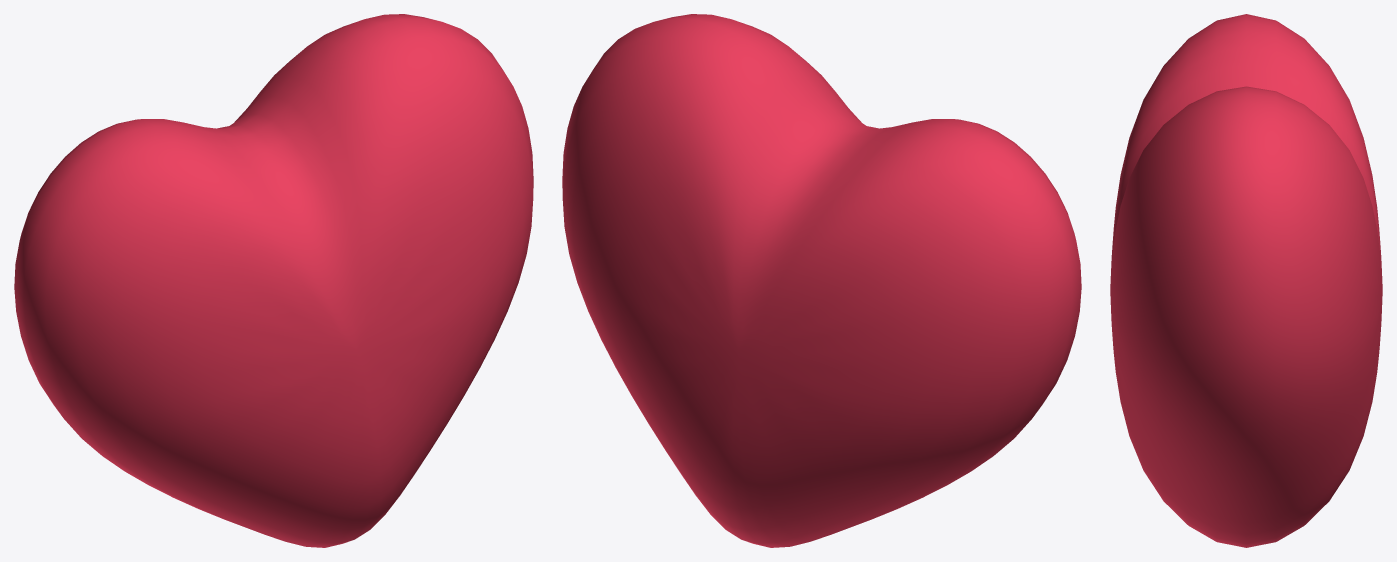
File: heart.glb
3 renders of one model, left to right at view 1: azimuth 30°, elevation 25°; view 2: azimuth 150°, elevation 25°; view 3: azimuth 270°, elevation 25°, orthographic. The views are drawn at different scales.
Parts seen in each view (by area): view 1: Inflated pink red heart; view 2: Inflated pink red heart; view 3: Inflated pink red heart.
Boxes of the visible parts, left/top/right/bottom form: Inflated pink red heart: left=14, top=14, right=533, bottom=547; Inflated pink red heart: left=562, top=14, right=1081, bottom=547; Inflated pink red heart: left=1110, top=14, right=1382, bottom=547.
Size of the model in its own units: 4.55 by 4.35 by 2.25.
